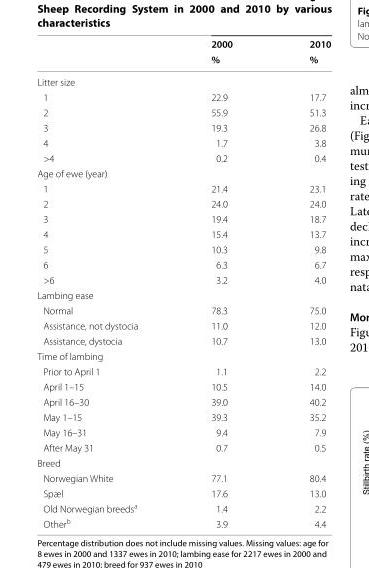table: (36, 37, 330, 529)
table column: (36, 37, 173, 529), (173, 37, 270, 529), (270, 37, 330, 529)
table column header: (36, 37, 330, 70)
table projected row header: (36, 70, 330, 89), (36, 454, 330, 470), (36, 165, 330, 180), (36, 287, 330, 302), (36, 348, 330, 363)
table row: (36, 50, 330, 70), (36, 70, 330, 89), (36, 134, 330, 150), (36, 195, 330, 211), (36, 256, 330, 272), (36, 332, 330, 348), (36, 393, 330, 409), (36, 454, 330, 470), (36, 89, 330, 104), (36, 104, 330, 119), (36, 119, 330, 134), (36, 150, 330, 165), (36, 165, 330, 180), (36, 180, 330, 195), (36, 211, 330, 226), (36, 226, 330, 241), (36, 241, 330, 256), (36, 272, 330, 287), (36, 287, 330, 302), (36, 302, 330, 317), (36, 317, 330, 332), (36, 348, 330, 363), (36, 363, 330, 378), (36, 378, 330, 393), (36, 409, 330, 424), (36, 424, 330, 439), (36, 439, 330, 454), (36, 470, 330, 485), (36, 485, 330, 500), (36, 500, 330, 515), (36, 515, 330, 529), (36, 37, 330, 50)
table spanning cell: (173, 37, 270, 70), (270, 37, 330, 70)
